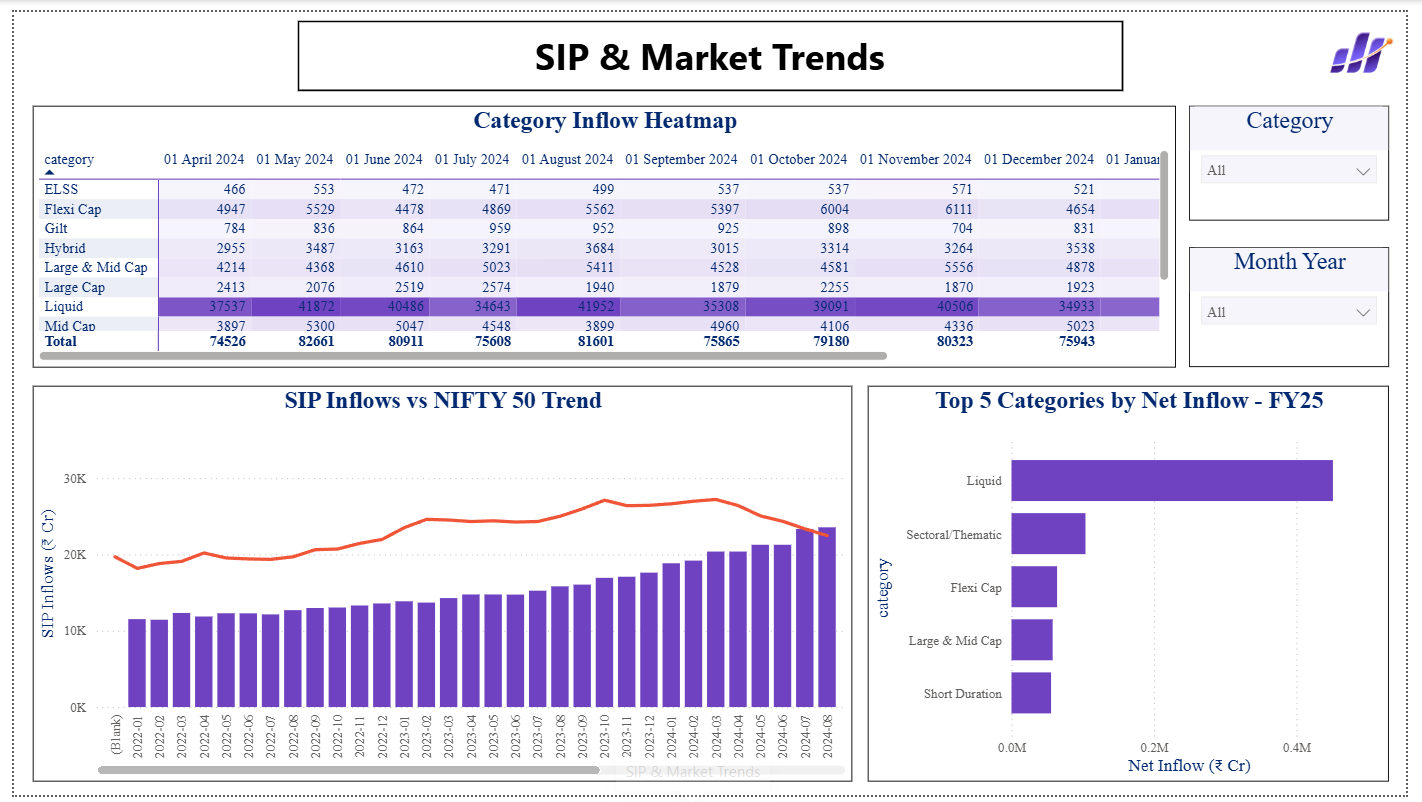

Layout of this report page (visuals, bound fields, positions):
{"tool":"powerbi","page":{"name":"SIP & Market Trends","canvas":[1280,720],"ordinal":3},"visuals":[{"type":"lineClusteredColumnComboChart","title":"SIP Inflows vs NIFTY 50 Trend","fields":{"Y":["Sum(04_monthly_sip_inflows.sip_inflow_crore)"],"Y2":["Avg(10_benchmark_indices.close_value)"],"Category":["DateTable.Year Month"]},"box":[16.9,343.8,753.3,363.6],"z":0},{"type":"pivotTable","title":"Category Inflow Heatmap","fields":{"Rows":["05_category_inflows.category"],"Values":["Sum(05_category_inflows.net_inflow_crore)"],"Columns":["05_category_inflows.Date"]},"box":[17.4,86,1051.2,240.7],"z":1000},{"type":"clusteredBarChart","title":"Top 5 Categories by Net Inflow - FY25","fields":{"Category":["05_category_inflows.category"],"Y":["Sum(05_category_inflows.net_inflow_crore)"]},"box":[784.9,344.2,479.1,364],"z":2000},{"type":"shape","box":[260.5,8.1,758.8,64.5],"z":3000},{"type":"image","box":[1197.7,0,82.3,75.5],"z":4000},{"type":"slicer","title":"Category","fields":{"Values":["05_category_inflows.category"]},"box":[1080.2,86,183.7,105.8],"z":4001},{"type":"slicer","title":"Month Year","fields":{"Values":["DateTable.Year Month"]},"box":[1080.2,216.3,183.7,110.5],"z":4002}]}

Visuals, with their boxes in screenshot pixels (x1, y1, x2, y2), scaled from the page's 1280x720 canvas onto the 1422x802 screenshot:
"SIP Inflows vs NIFTY 50 Trend" lineClusteredColumnComboChart: select_region(19, 383, 856, 788)
"Category Inflow Heatmap" pivotTable: select_region(19, 96, 1187, 364)
"Top 5 Categories by Net Inflow - FY25" clusteredBarChart: select_region(872, 383, 1404, 789)
shape: select_region(289, 9, 1132, 81)
image: select_region(1331, 0, 1421, 84)
"Category" slicer: select_region(1200, 96, 1404, 214)
"Month Year" slicer: select_region(1200, 241, 1404, 364)
